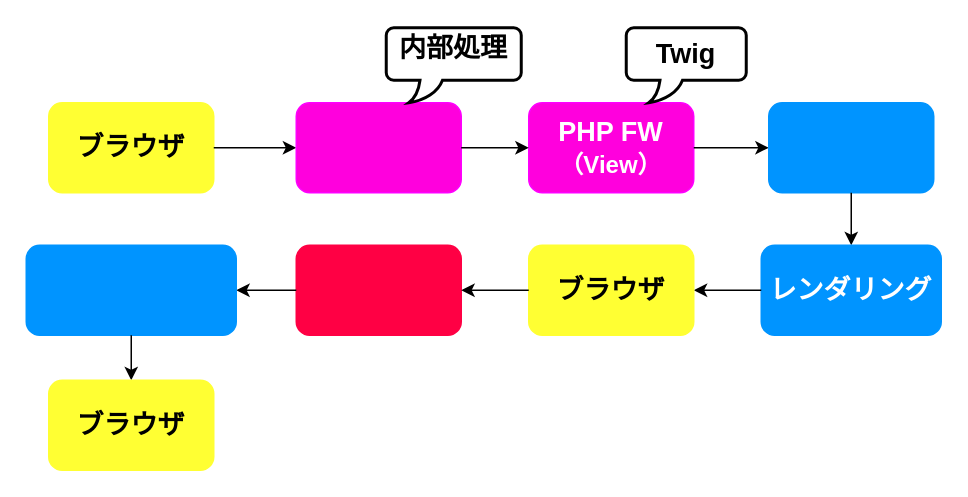
Image size: 968x497. Some labels were removed from this diagram. The centre of each missing label's shape, as x and y in pixels:
"PHP FW （Controller）" goes at pixel 378 147.
"tagファイル" goes at pixel 378 289.
"コンパイル" goes at pixel 850 147.
"トランスパイル" goes at pixel 130 289.
